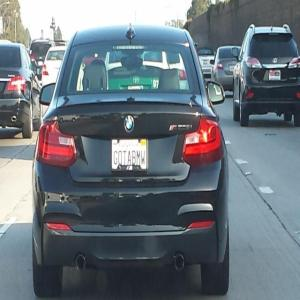Plate: (112, 140, 148, 170), (270, 68, 282, 81), (202, 60, 209, 66), (229, 65, 236, 71)
